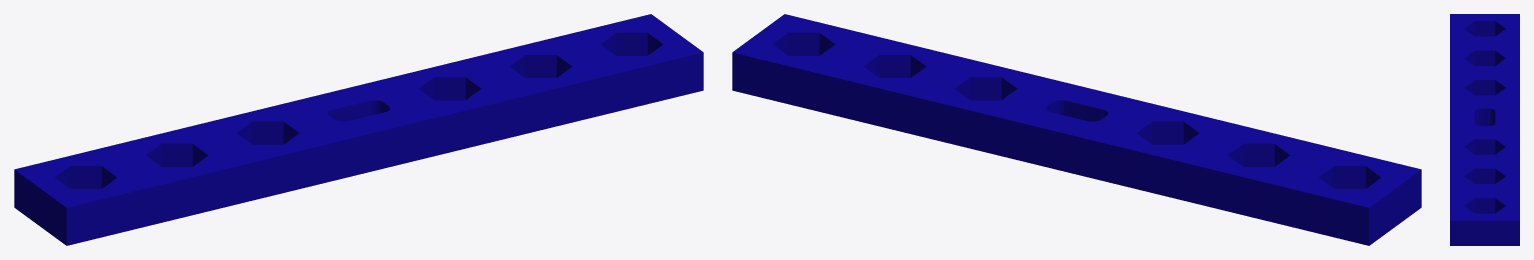
The model's file is I_Piece_6_hole_I_Piece_With_1_Track.glb.
3 renders of one model, left to right at view 1: azimuth 30°, elevation 25°; view 2: azimuth 150°, elevation 25°; view 3: azimuth 270°, elevation 25°, orthographic. The views are drawn at different scales.
Visible parts, largest first — view 1: Cube.002; view 2: Cube.002; view 3: Cube.002.
Boxes of the visible parts, box(x1,y1,x2,y2) form: Cube.002: box(14, 14, 703, 245); Cube.002: box(732, 14, 1421, 245); Cube.002: box(1450, 14, 1519, 245).
Size of the model in its own units: 0.07 by 0.004 by 0.01.
